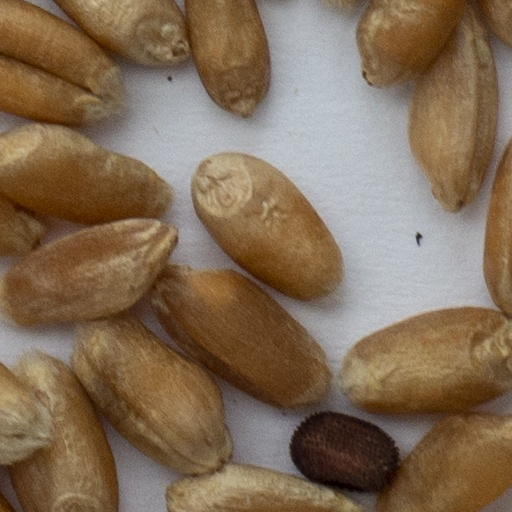Agrostemma-poly: (291, 413, 396, 491)
